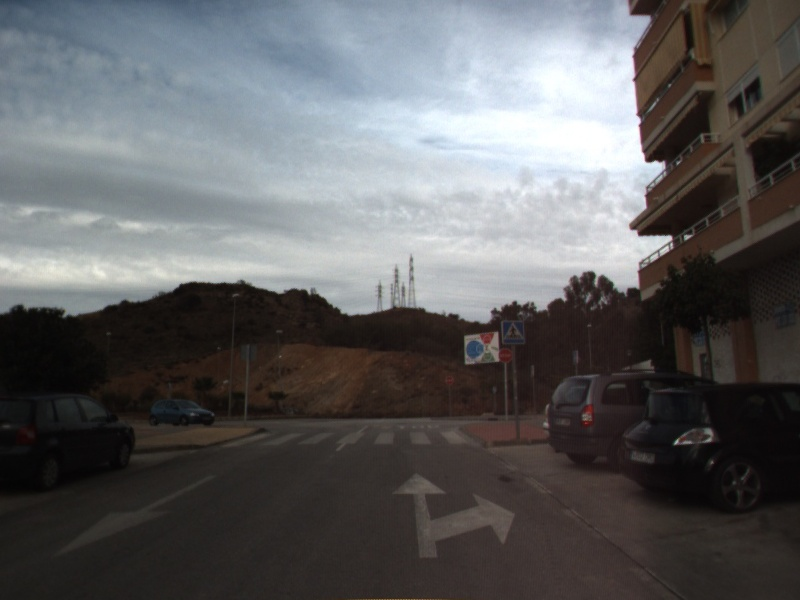STRAIGHT_RIGHT: (390, 470, 517, 561)
